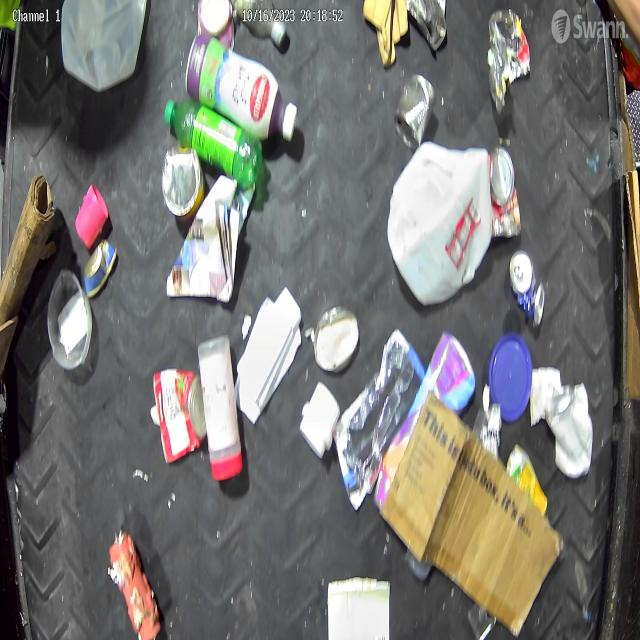can: (156, 132, 208, 228), (150, 363, 202, 450), (488, 137, 522, 245), (392, 70, 436, 151), (508, 239, 543, 333), (82, 228, 122, 298)
milk_jug: (384, 140, 496, 310), (53, 0, 154, 103)
plastic_bottle: (164, 96, 258, 196), (233, 0, 291, 48)
